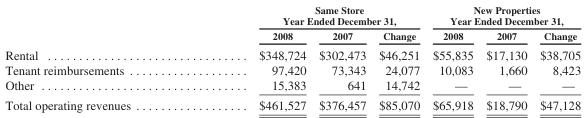table: (4, 4, 580, 112)
table column: (4, 4, 194, 112), (194, 4, 311, 112), (311, 4, 371, 112), (371, 4, 425, 112), (425, 4, 479, 112), (479, 4, 532, 112), (532, 4, 580, 112)
table column header: (4, 4, 580, 44)
table row: (4, 4, 580, 27), (4, 44, 580, 62), (4, 77, 580, 95), (4, 27, 580, 44), (4, 95, 580, 112), (4, 62, 580, 77)
table spanning cell: (194, 4, 425, 27), (425, 4, 580, 27)
